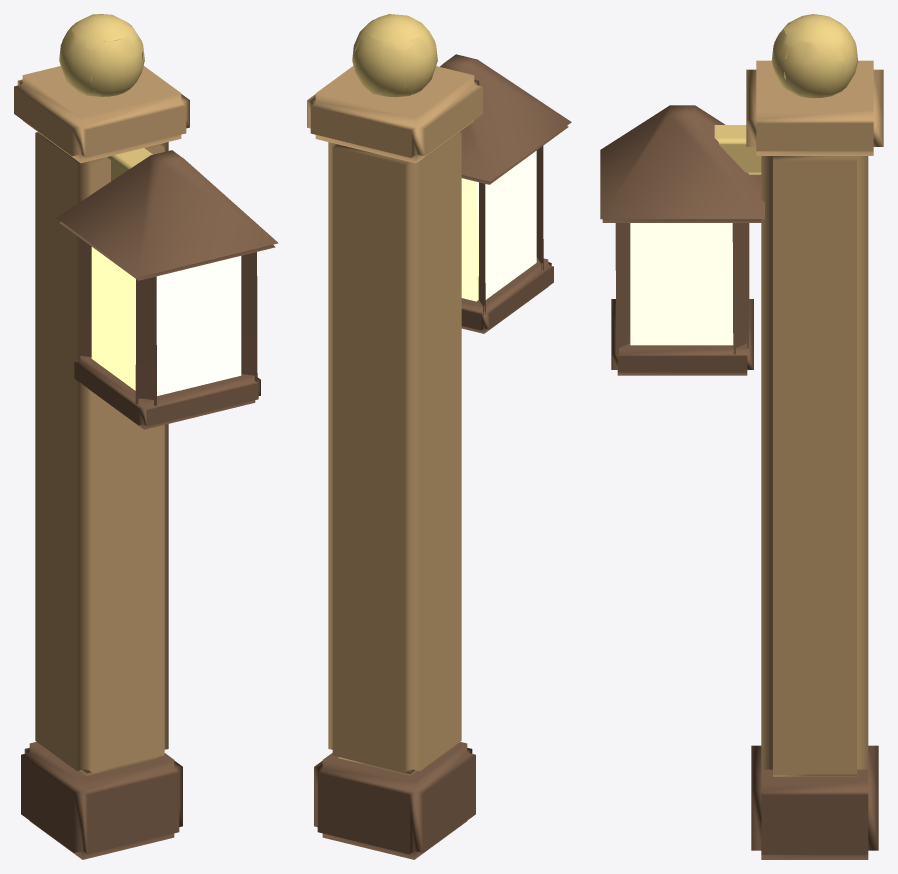
The model's file is boss_lantern_post.glb.
The picture shows the model from 3 angles, left to right: view 1: azimuth 30°, elevation 25°; view 2: azimuth 150°, elevation 25°; view 3: azimuth 270°, elevation 25°; orthographic projection.
Parts seen in each view (by area): view 1: Shaft, LanternRoof, LanternCore, Foot, Cap, LanternBase, Finial, Strut_-0.23_-0.75, Strut_0.23_-0.75, Strut_-0.23_-0.29000000000000004, BracketArm; view 2: Shaft, Foot, Cap, LanternCore, LanternRoof, Finial, LanternBase, Strut_-0.23_-0.75, Strut_-0.23_-0.29000000000000004; view 3: Shaft, LanternRoof, LanternCore, Foot, Cap, Finial, LanternBase, Strut_0.23_-0.29000000000000004, Strut_0.23_-0.75, BracketArm.
Boxes of the visible parts, bbox=[...] form: Shaft: bbox=[35, 132, 168, 775]; LanternRoof: bbox=[56, 150, 278, 280]; LanternCore: bbox=[91, 247, 241, 395]; Foot: bbox=[21, 742, 182, 859]; Cap: bbox=[14, 66, 189, 163]; LanternBase: bbox=[74, 356, 260, 429]; Finial: bbox=[59, 14, 144, 96]; Strut_-0.23_-0.75: bbox=[135, 276, 156, 405]; Strut_0.23_-0.75: bbox=[241, 252, 257, 382]; Strut_-0.23_-0.29000000000000004: bbox=[77, 237, 91, 361]; BracketArm: bbox=[107, 148, 152, 181]; Shaft: bbox=[328, 132, 461, 775]; Foot: bbox=[314, 742, 475, 859]; Cap: bbox=[307, 66, 482, 163]; LanternCore: bbox=[461, 151, 536, 301]; LanternRoof: bbox=[440, 54, 571, 184]; Finial: bbox=[352, 14, 437, 97]; LanternBase: bbox=[461, 257, 553, 333]; Strut_-0.23_-0.75: bbox=[536, 146, 543, 269]; Strut_-0.23_-0.29000000000000004: bbox=[478, 182, 485, 314]; Shaft: bbox=[761, 156, 868, 776]; LanternRoof: bbox=[600, 105, 764, 222]; LanternCore: bbox=[630, 223, 733, 345]; Foot: bbox=[751, 745, 878, 859]; Cap: bbox=[746, 60, 883, 155]; Finial: bbox=[771, 14, 858, 98]; LanternBase: bbox=[611, 299, 753, 375]; Strut_0.23_-0.29000000000000004: bbox=[732, 223, 749, 354]; Strut_0.23_-0.75: bbox=[615, 223, 630, 356]; BracketArm: bbox=[714, 125, 761, 174].
Size of the model in its own units: 0.6464 by 3.55 by 1.11.
